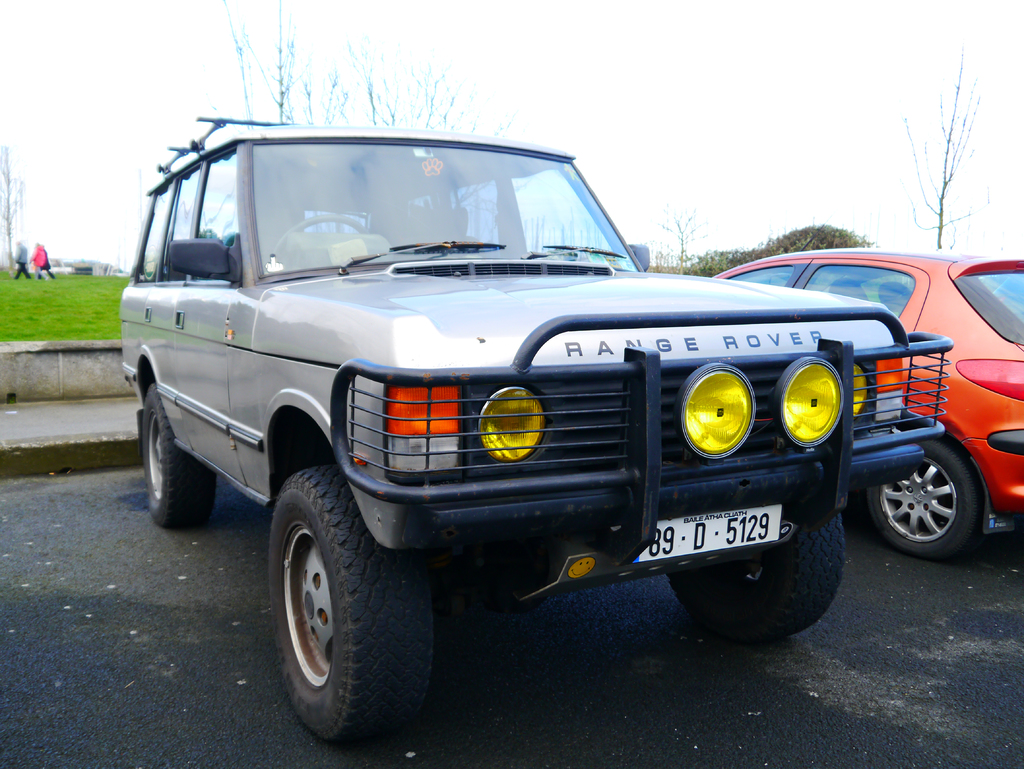Car: (714, 246, 1023, 563)
